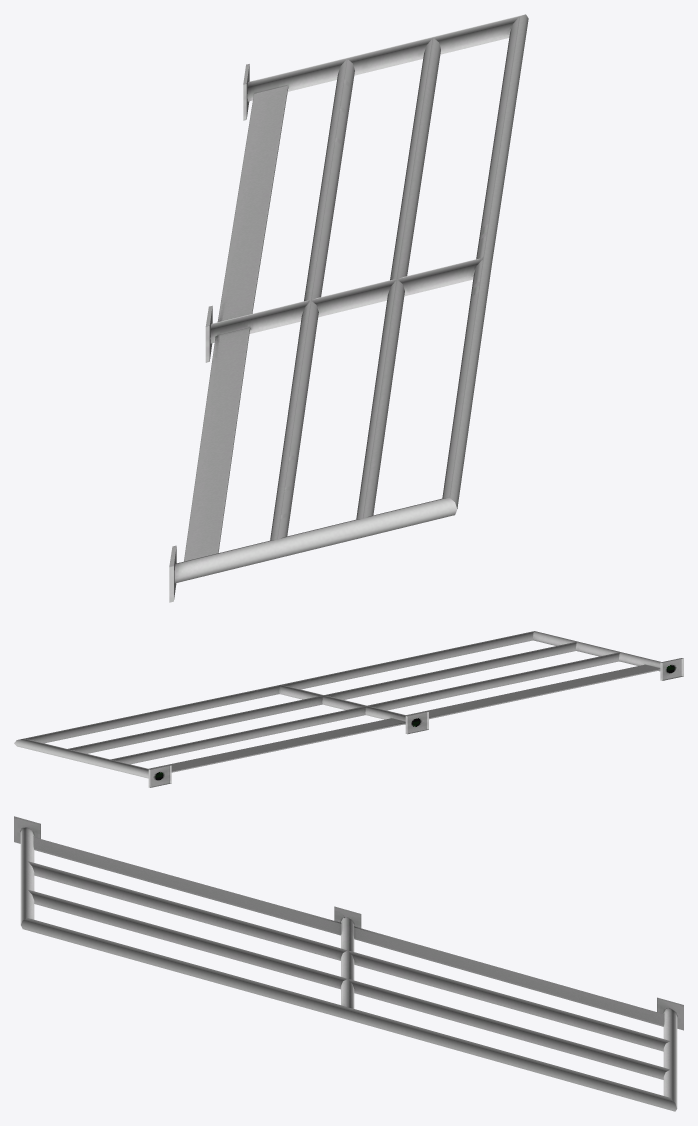
Rendered from props_trainyard_handrail_stairs.glb.
3 renders of one model, top to bottom at view 1: azimuth 30°, elevation 25°; view 2: azimuth 150°, elevation 25°; view 3: azimuth 270°, elevation 25°, orthographic. The views are drawn at different scales.
Visible parts, largest first — view 1: models/props_trainyard/handrail_stairs; view 2: models/props_trainyard/handrail_stairs; view 3: models/props_trainyard/handrail_stairs.
Boxes of the visible parts, box(x1,y1,x2,y2) form: models/props_trainyard/handrail_stairs: box(169, 14, 528, 602); models/props_trainyard/handrail_stairs: box(14, 631, 683, 787); models/props_trainyard/handrail_stairs: box(14, 816, 683, 1111).
Size of the model in its own units: 98.68 by 4 by 99.62.
1 material, 1 textured.
